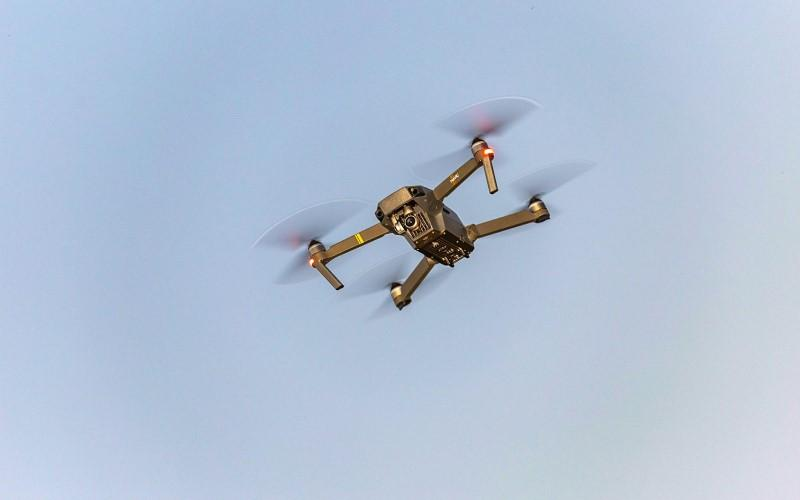drone_other: (246, 95, 592, 324)
